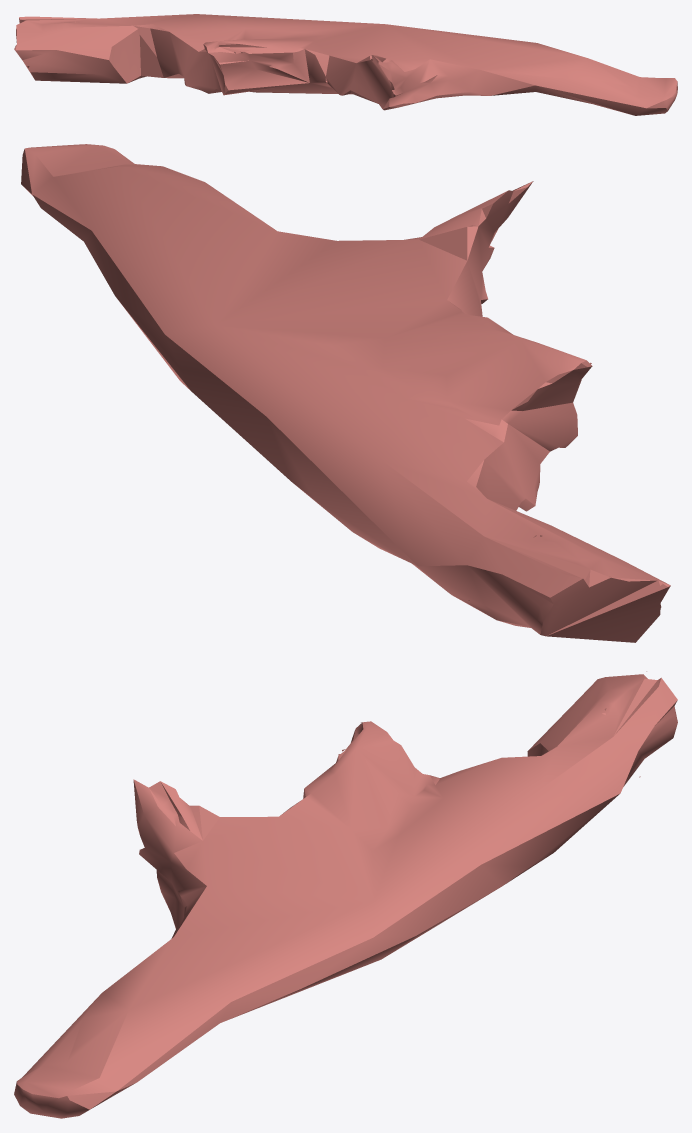
The model's file is fma46020_fj1445.glb.
3 views of the same model, one above another, from view 1: azimuth 30°, elevation 25°; view 2: azimuth 150°, elevation 25°; view 3: azimuth 270°, elevation 25° (orthographic). The views are drawn at different scales.
Visible parts, largest first — view 1: FMA46020_FJ1445; view 2: FMA46020_FJ1445; view 3: FMA46020_FJ1445.
Boxes of the visible parts, box(x1,y1,x2,y2) form: FMA46020_FJ1445: box(14, 14, 677, 115); FMA46020_FJ1445: box(21, 144, 670, 642); FMA46020_FJ1445: box(14, 671, 677, 1118).
Size of the model in its own units: 0.0418 by 0.00722 by 0.031.
